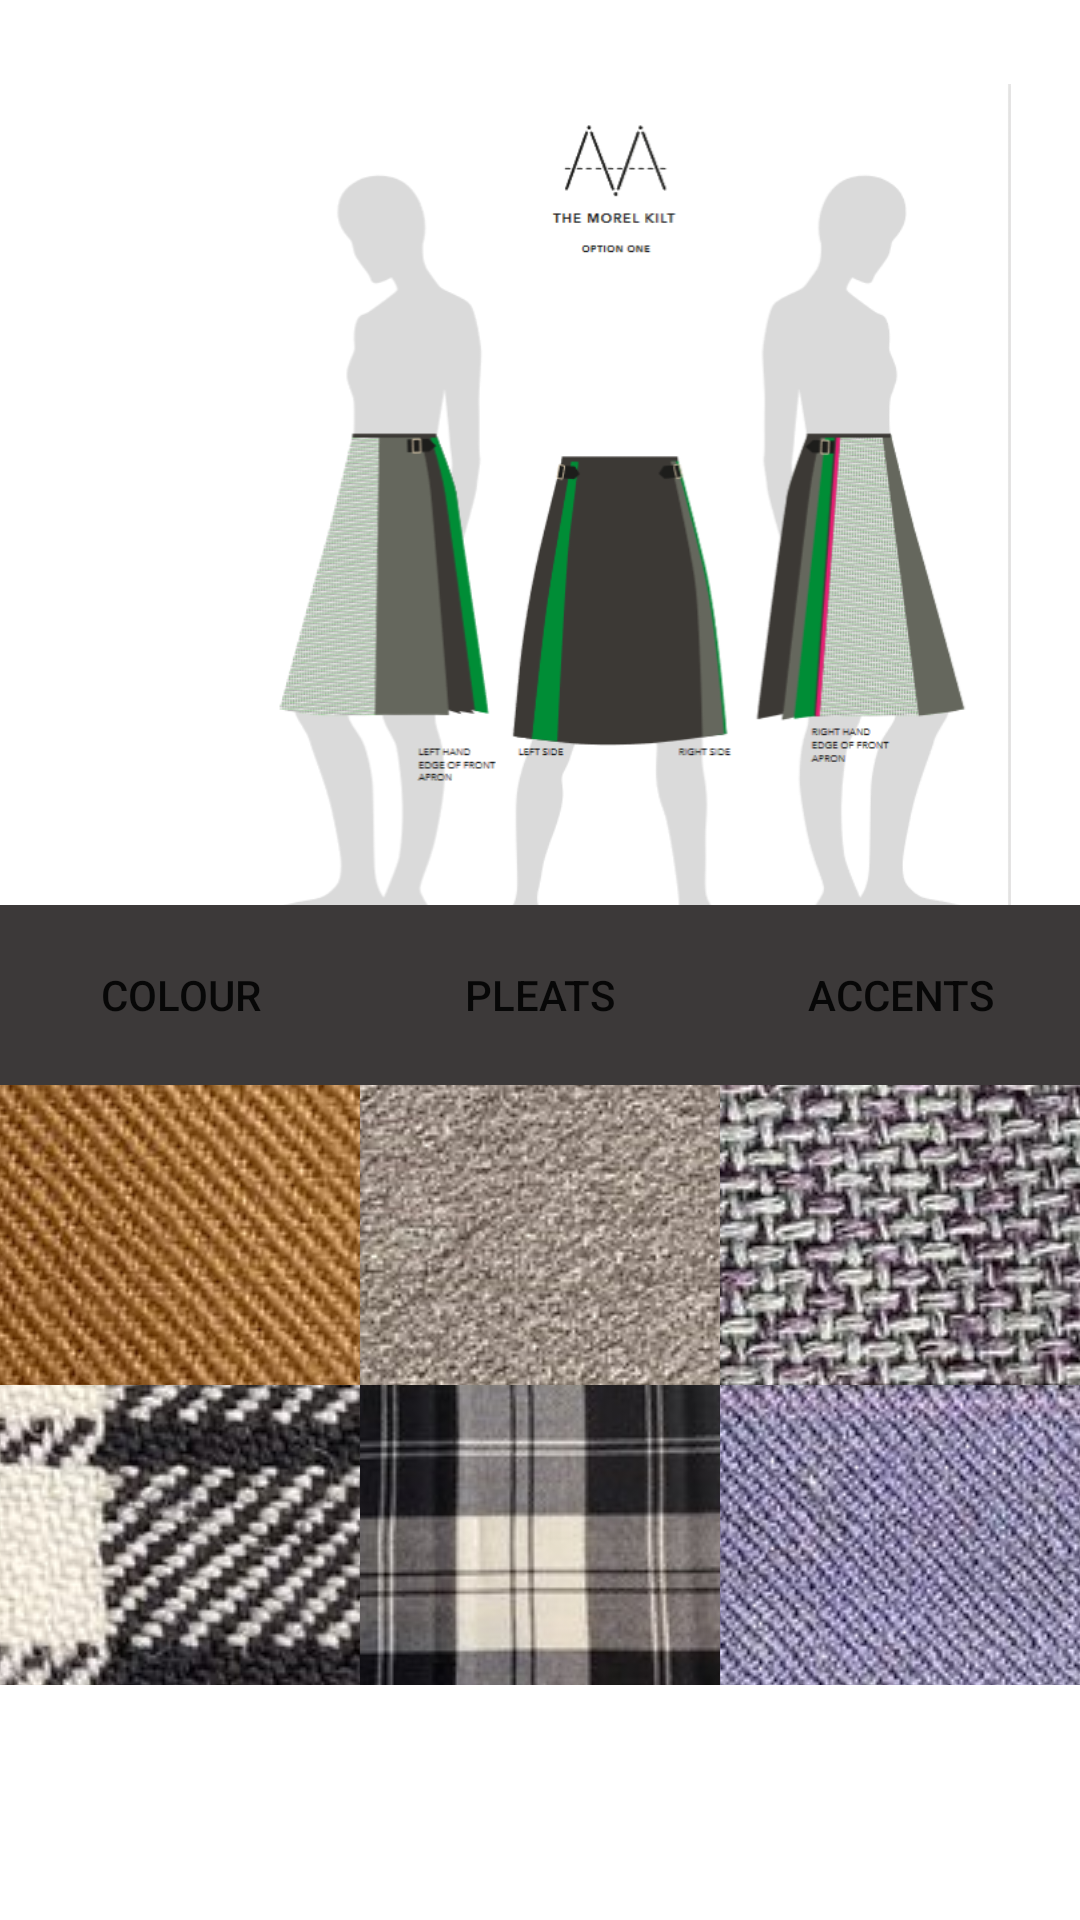

Where to tap for icons on this 1080px×1920px app screen, as [x,y]:
colour4: [180,1535]
colour5: [540,1535]
colour6: [900,1535]
